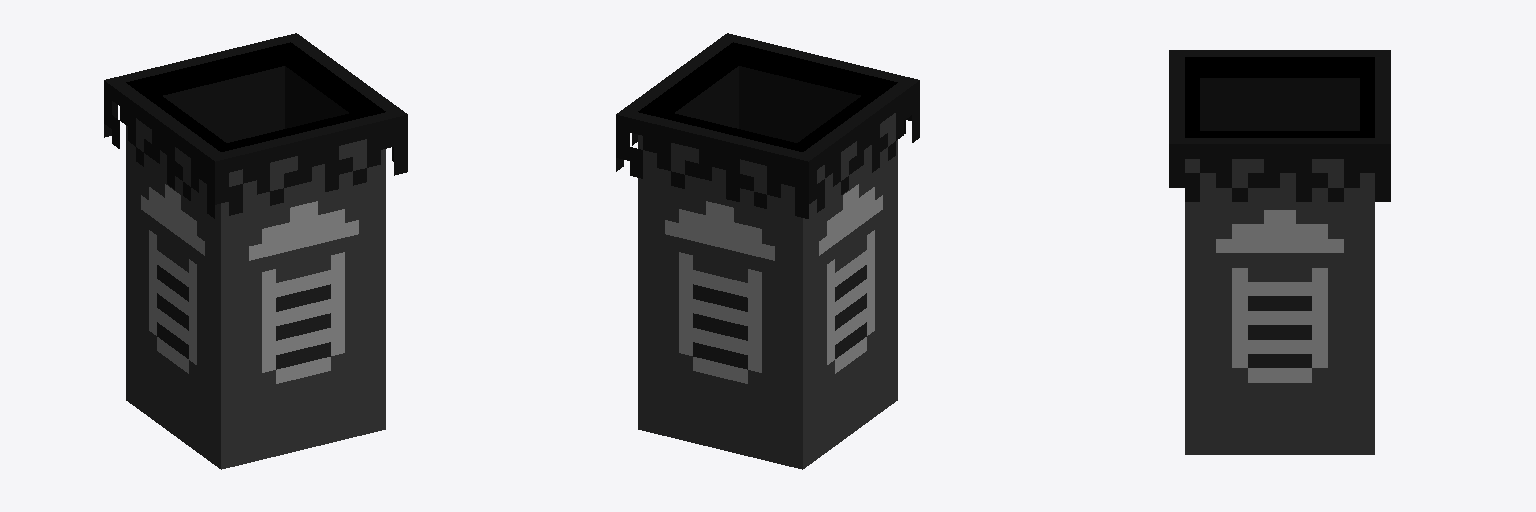
3 renders of one model, left to right at view 1: azimuth 30°, elevation 25°; view 2: azimuth 150°, elevation 25°; view 3: azimuth 270°, elevation 25°, orthographic.
Visible parts, largest first — view 1: Exterior, Bag, Interior; view 2: Exterior, Bag, Interior; view 3: Exterior, Bag, Interior.
Boxes of the visible parts, x1=… form: Exterior: x1=126, y1=118, x2=385, y2=469; Bag: x1=104, y1=33, x2=407, y2=218; Interior: x1=148, y1=52, x2=364, y2=142; Exterior: x1=638, y1=113, x2=897, y2=469; Bag: x1=616, y1=33, x2=919, y2=218; Interior: x1=659, y1=52, x2=875, y2=142; Exterior: x1=1185, y1=159, x2=1374, y2=454; Bag: x1=1169, y1=50, x2=1390, y2=201; Interior: x1=1200, y1=64, x2=1359, y2=130.
Size of the model in its own units: 0.875 by 1.38 by 0.875.
1 materials, 1 textured.